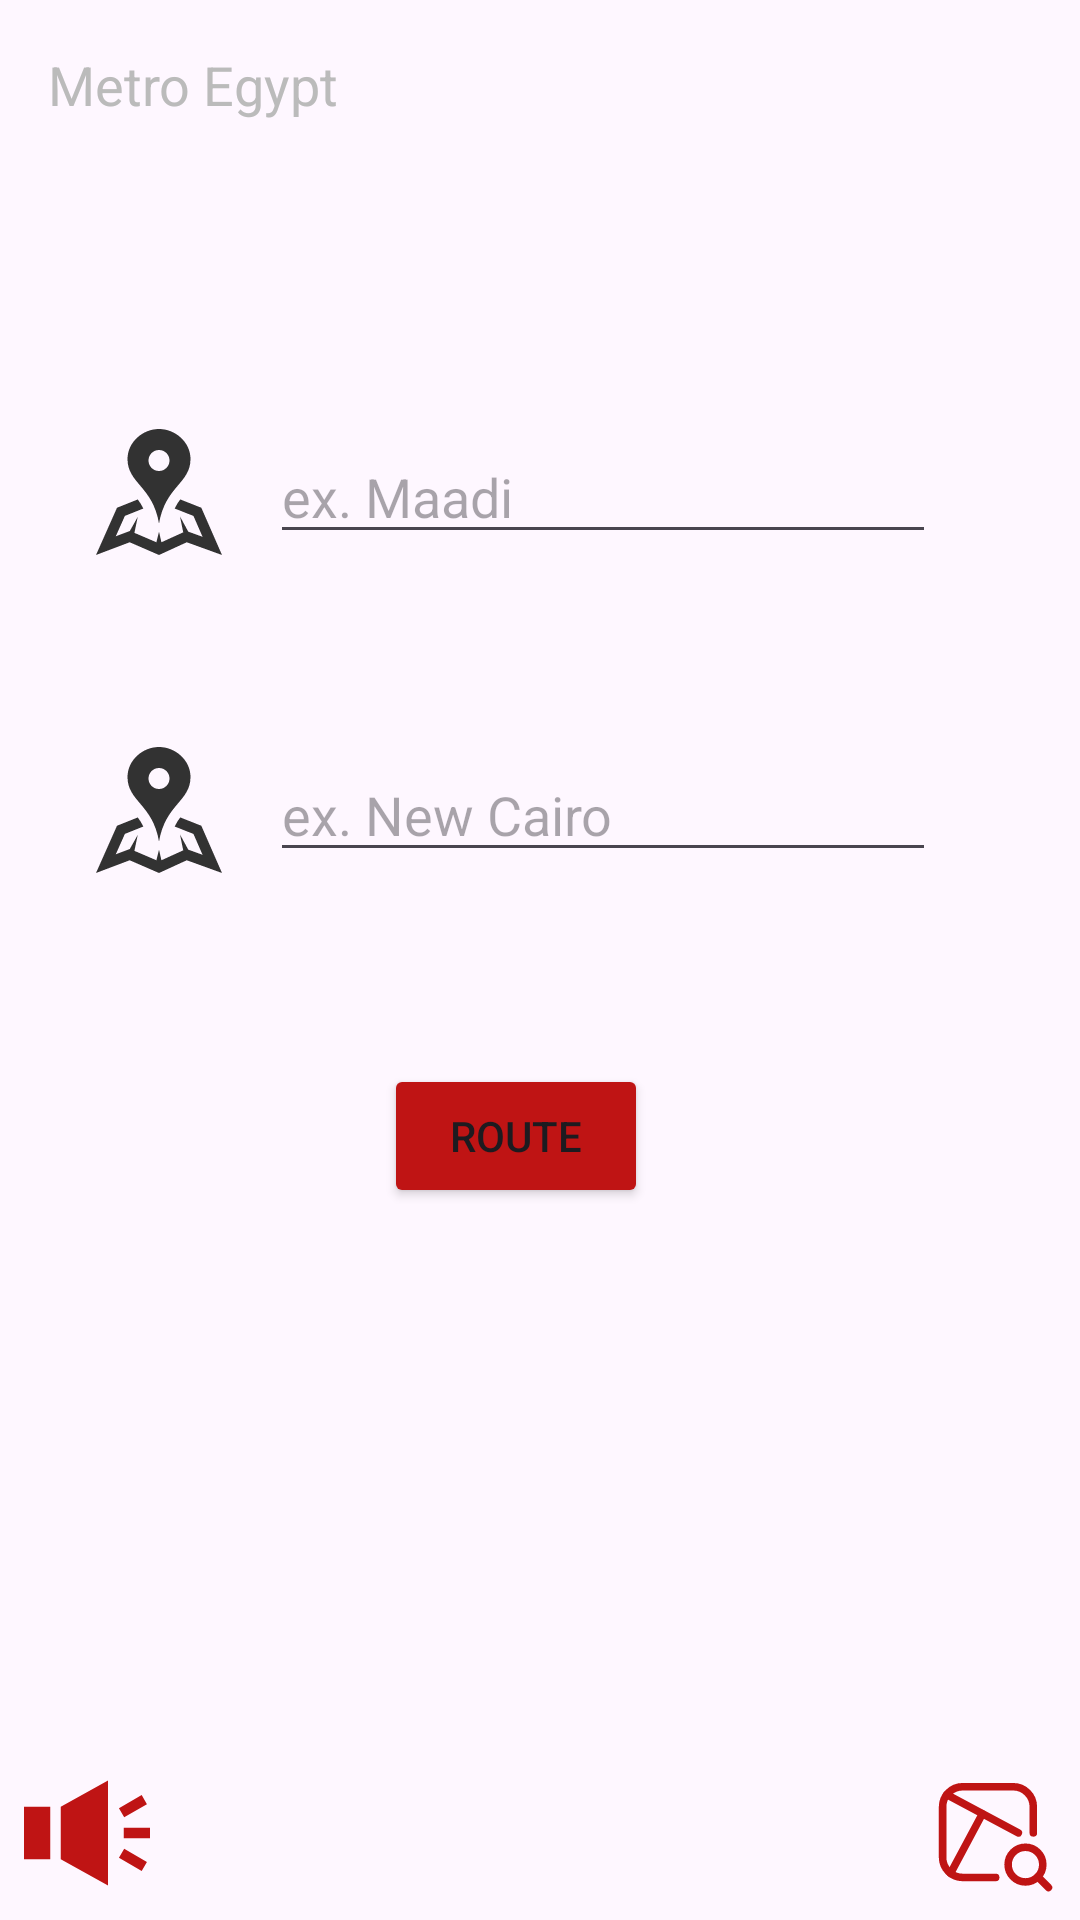

Screen size 1080*1920. Icon name, then its box in pixels as [x1=x1, y1=y1, x2=x2, y2=y2]:
location: [x1=96, y1=429, x2=222, y2=555], [x1=96, y1=747, x2=222, y2=873]
map: [x1=938, y1=1783, x2=1053, y2=1892]
sound on: [x1=24, y1=1780, x2=150, y2=1886]
